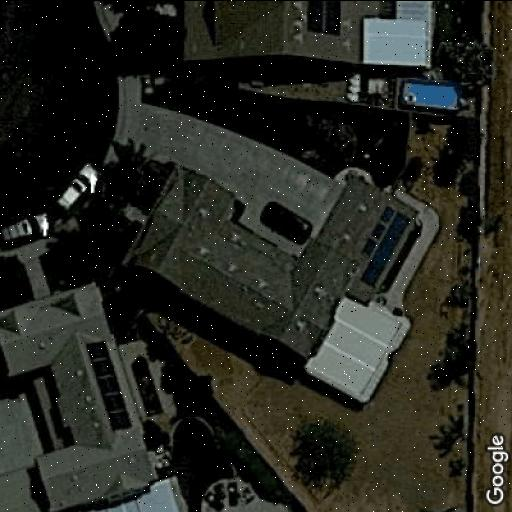solar-panel: (354, 201, 408, 287), (86, 337, 129, 429), (304, 0, 344, 38)
